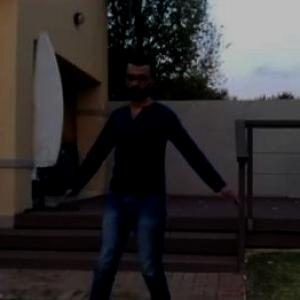land: (76, 64, 232, 299)
